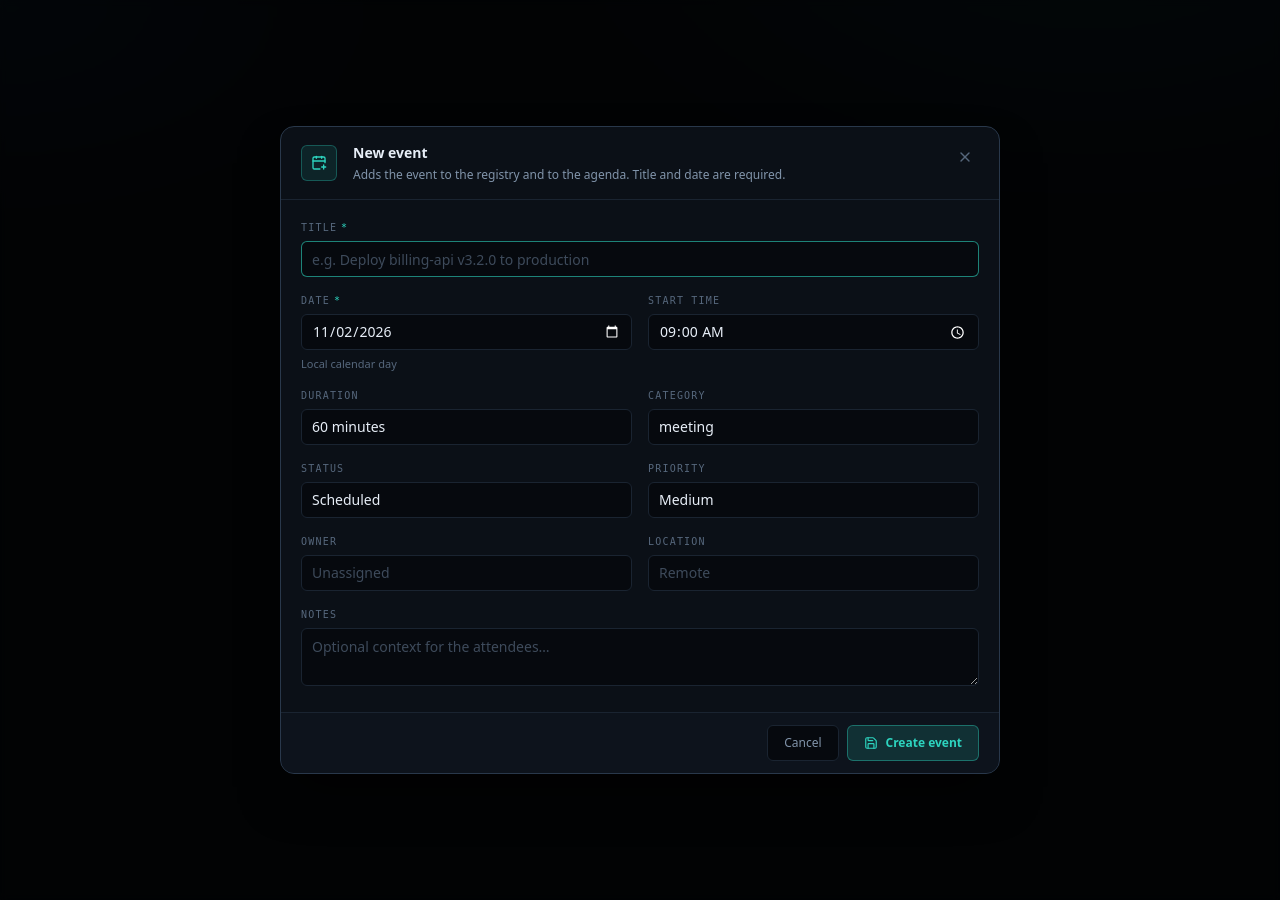
it: EventForm › focuses the date when the title is valid but the date is not
Type "Valid title" into the field labelled "Title *" at (640, 259), box left=301, top=241, right=979, bottom=277
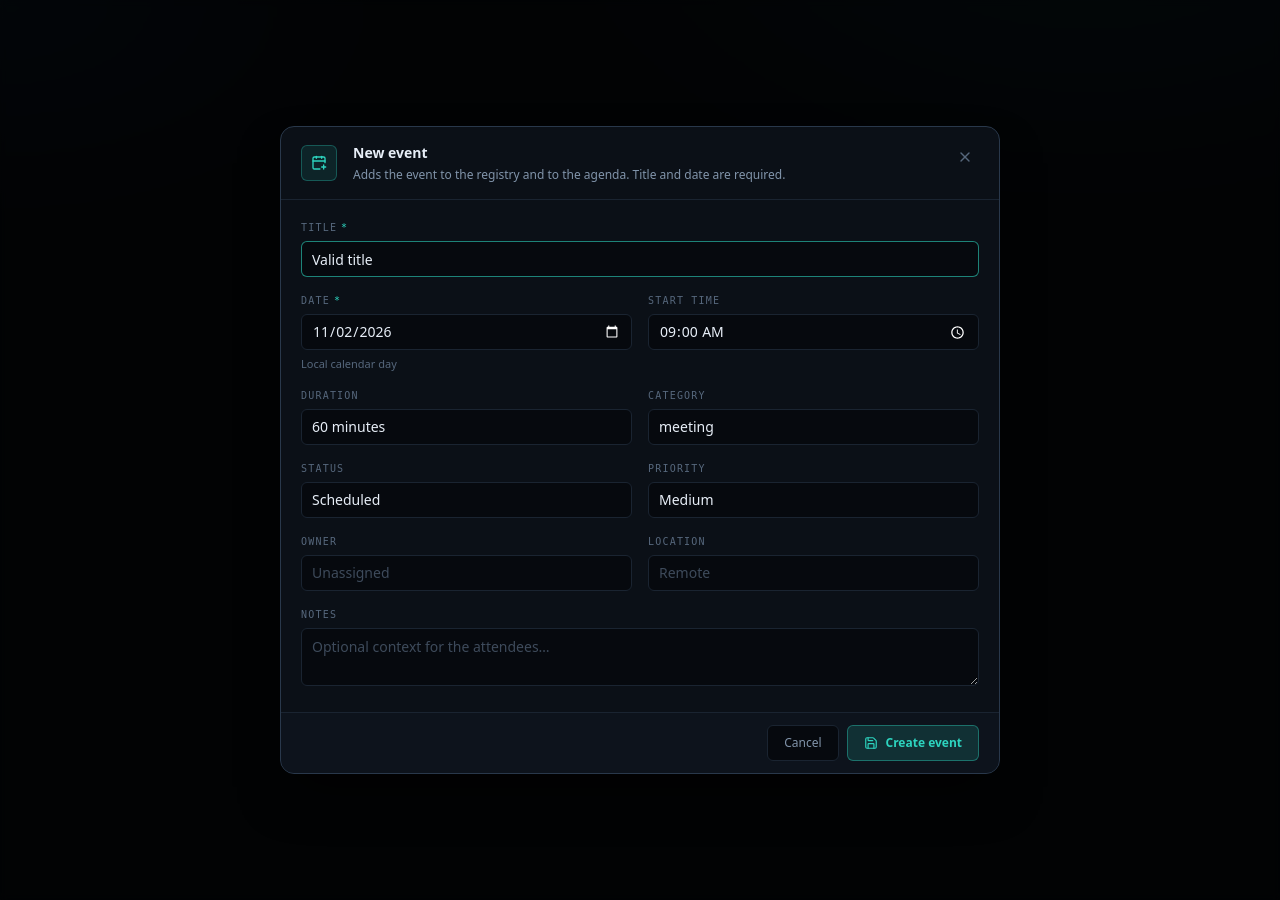
Clear the date field labelled "Date *" at (466, 332), box left=301, top=314, right=632, bottom=350
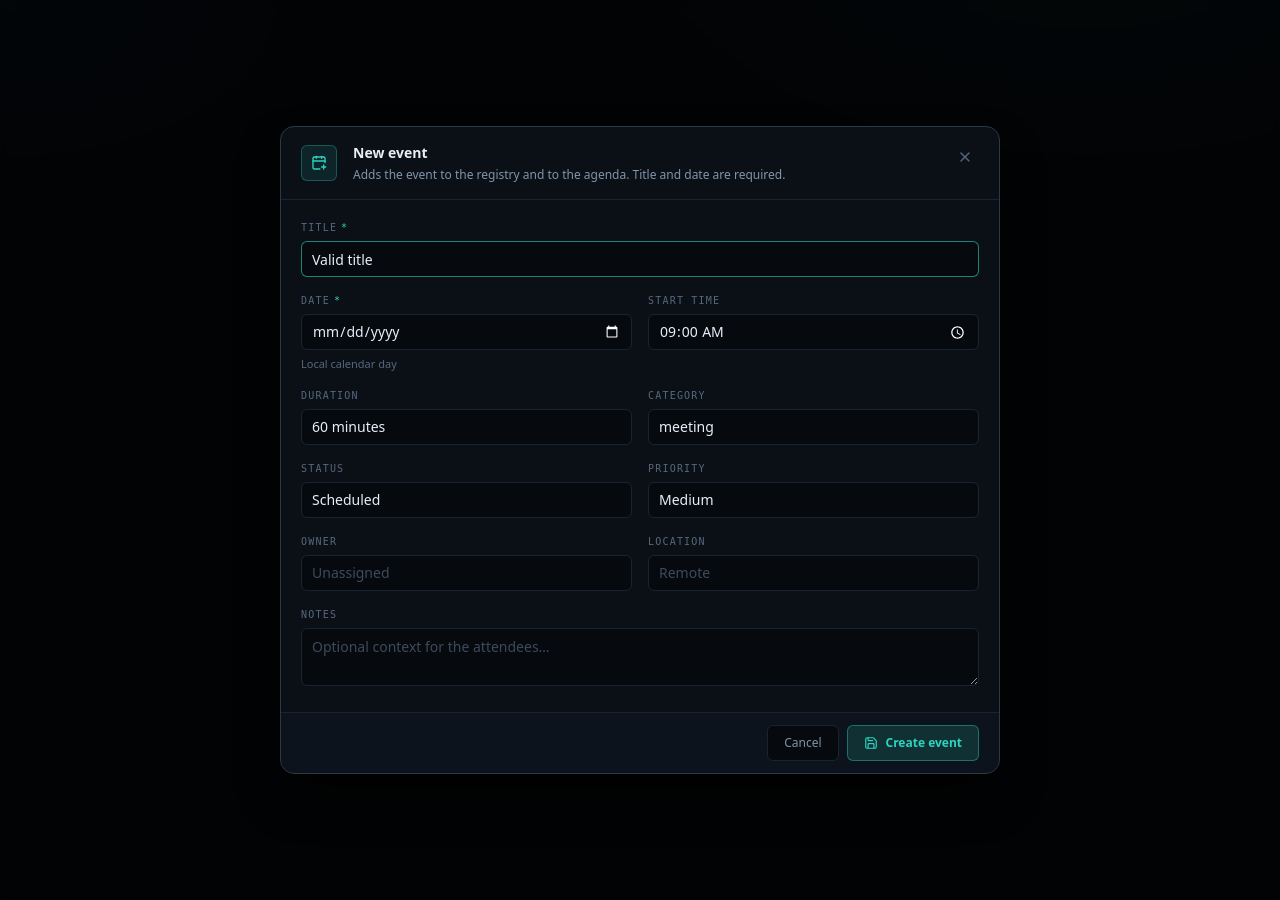
Click the button "Create event" at (913, 743), box left=846, top=725, right=979, bottom=761
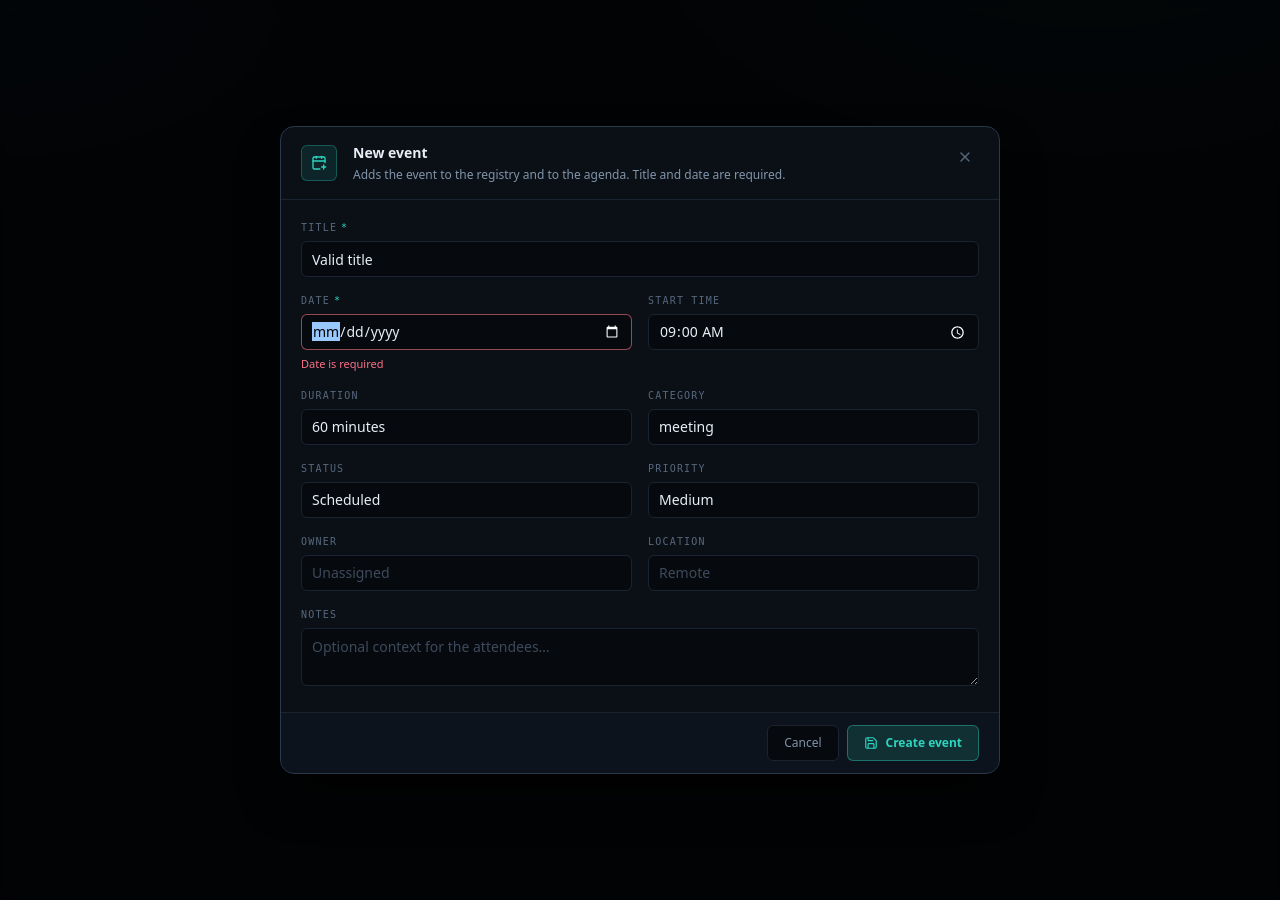
Now the text "Date is required" is shown, box left=301, top=356, right=383, bottom=371
